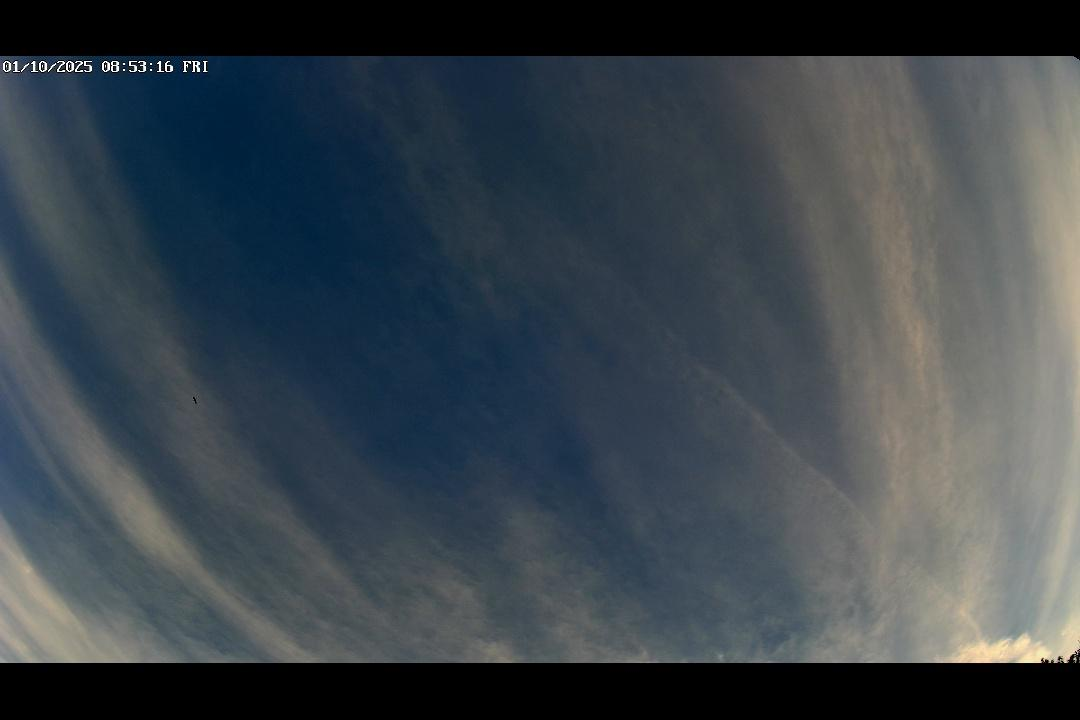WildLife: (178, 393, 213, 407)
